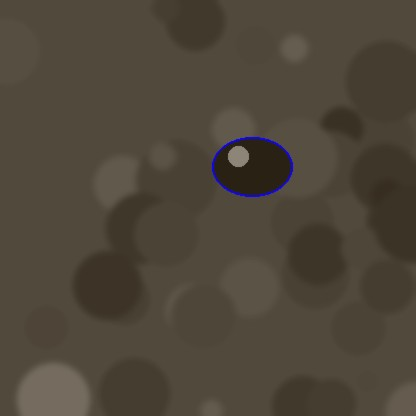gota: (212, 139, 292, 201)
